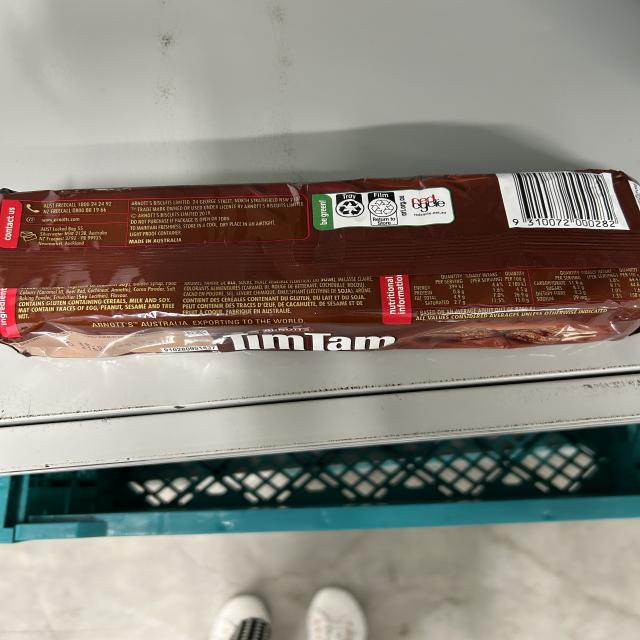object_name: (3, 190, 640, 351)
